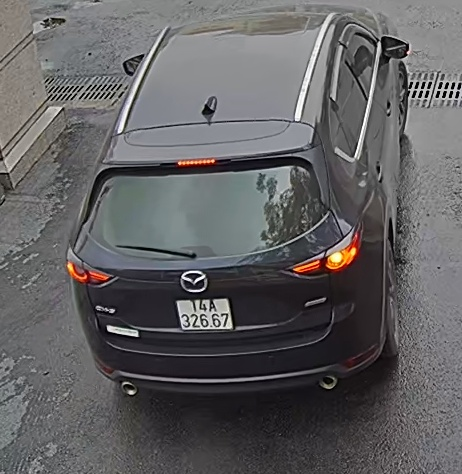vehicle plate: (173, 295, 232, 331)
